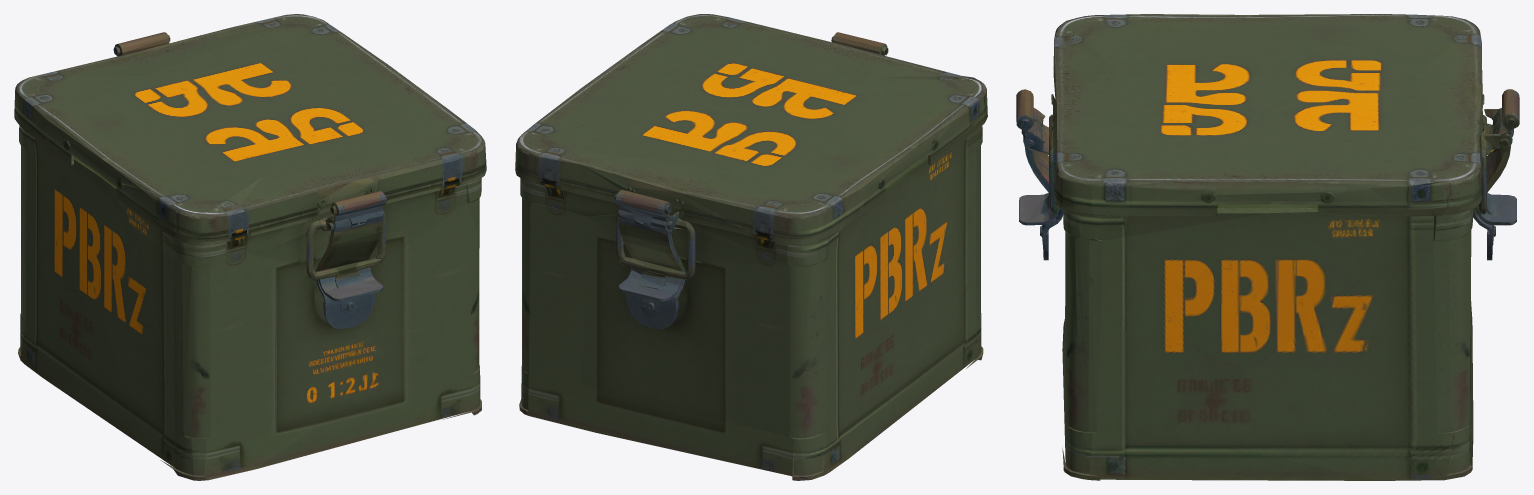
3 views of the same model, side by side, from view 1: azimuth 30°, elevation 25°; view 2: azimuth 150°, elevation 25°; view 3: azimuth 270°, elevation 25° (orthographic). The views are drawn at different scales.
Size of the model in its own units: 1.54 by 1.25 by 1.9.
1 material, 1 textured.
